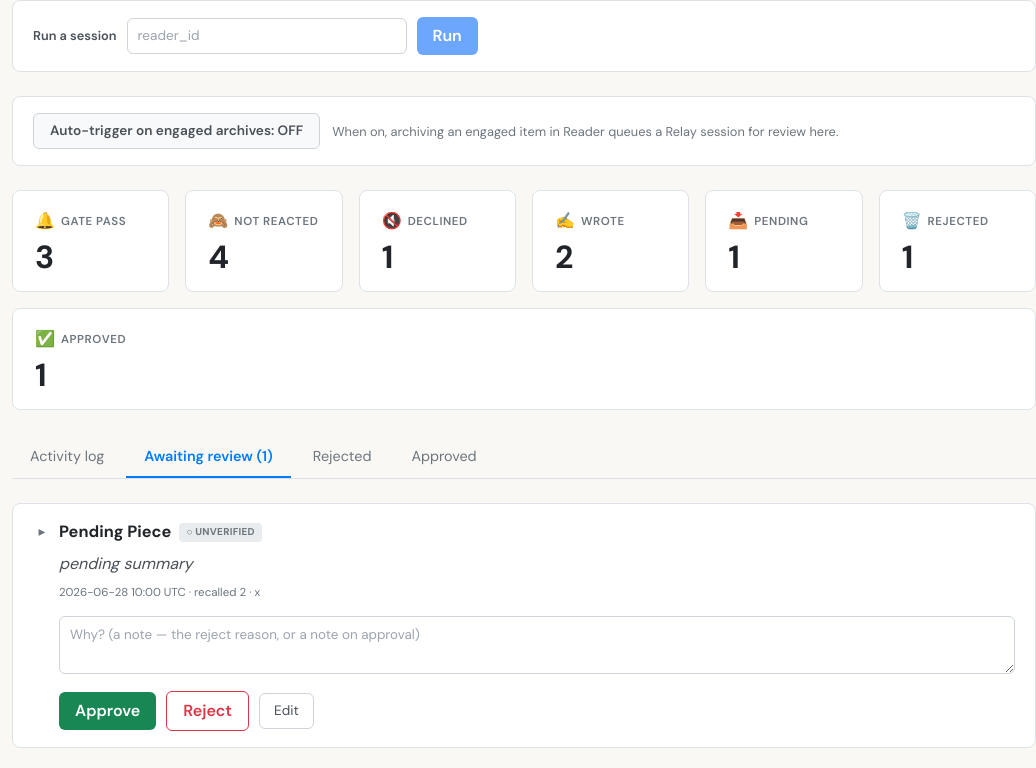
RelayAgent › offers contextual re-decision buttons: Approved → Reject, Rejected → Approve
The image size is (1036, 768).
Click the tab "Approved": click(444, 458) [393,438,495,478]
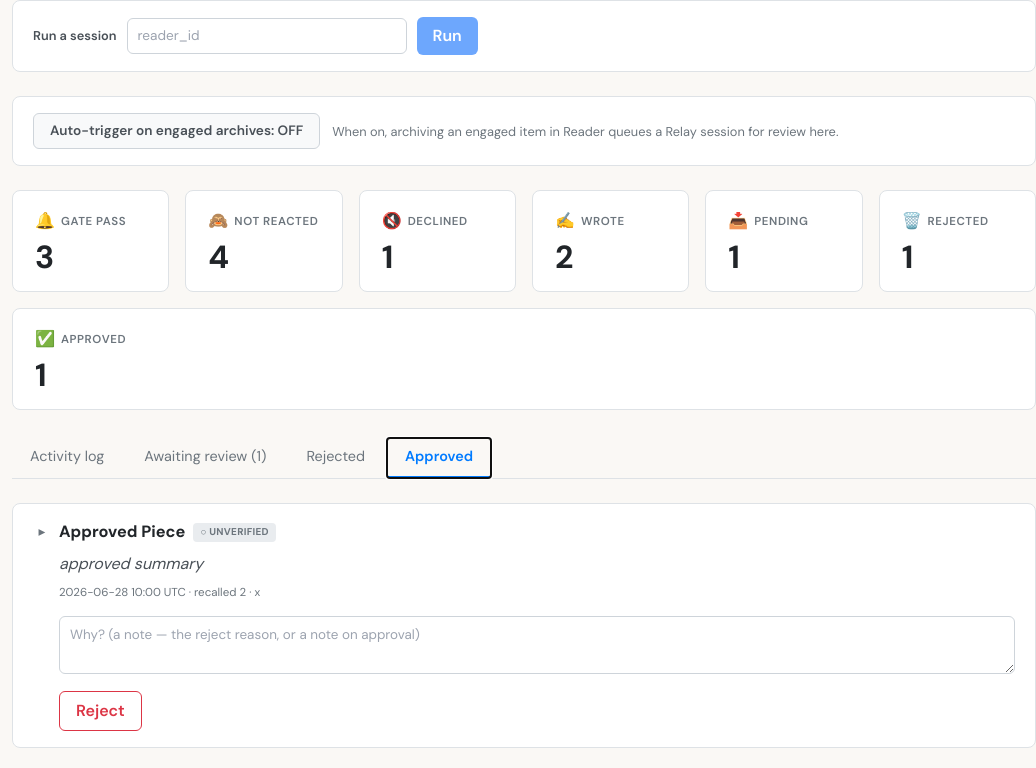
Check: the button "Reject" is shown, box [59,691,142,731]
Check: the heading "Approved Piece" is shown, box [59,520,185,544]
Click the tab "Rejected": click(336, 458) [288,438,383,478]
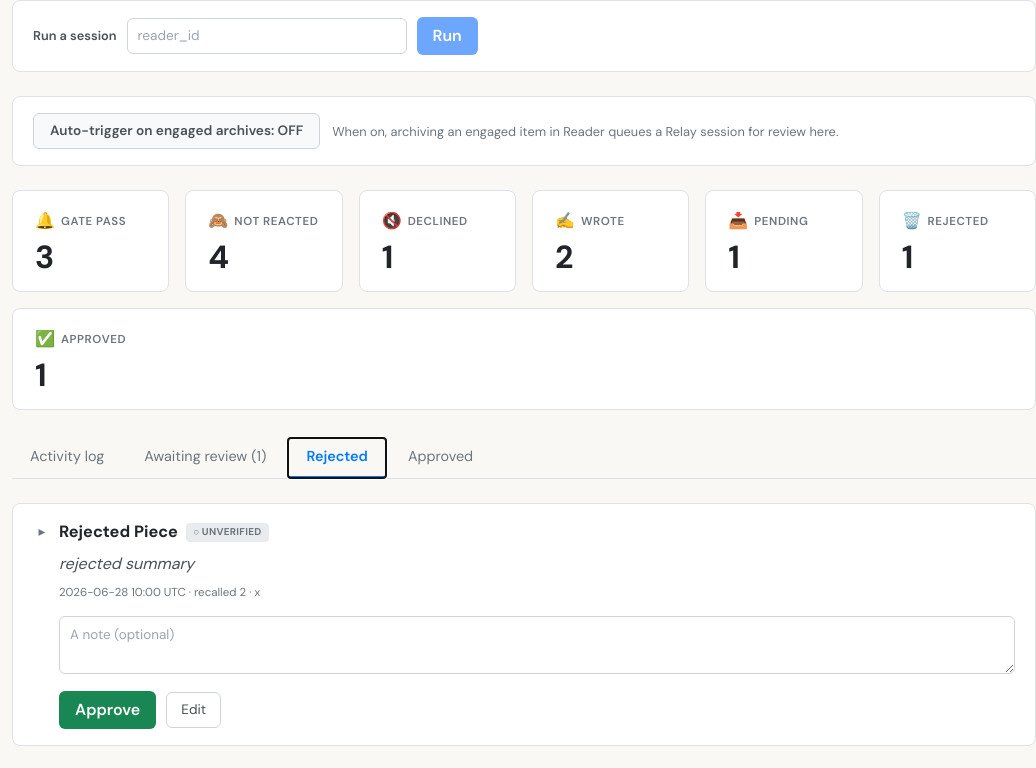
Check: the button "Approve" is shown, box [59,691,156,729]
Check: the heading "Rejected Piece" is shown, box [59,520,178,544]
